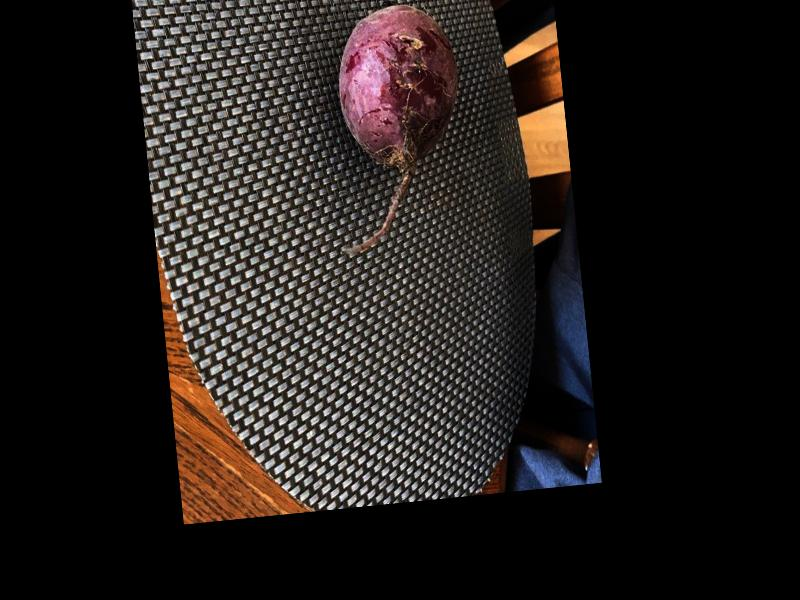Beet: (318, 2, 475, 255)
